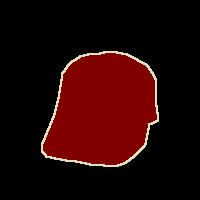hat: (42, 52, 158, 166)
